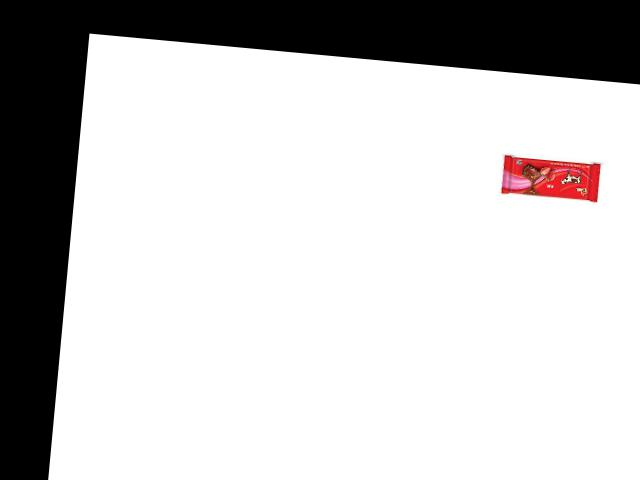chocolate: (500, 148, 608, 202)
